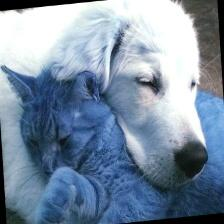kedo: (2, 65, 134, 222)
